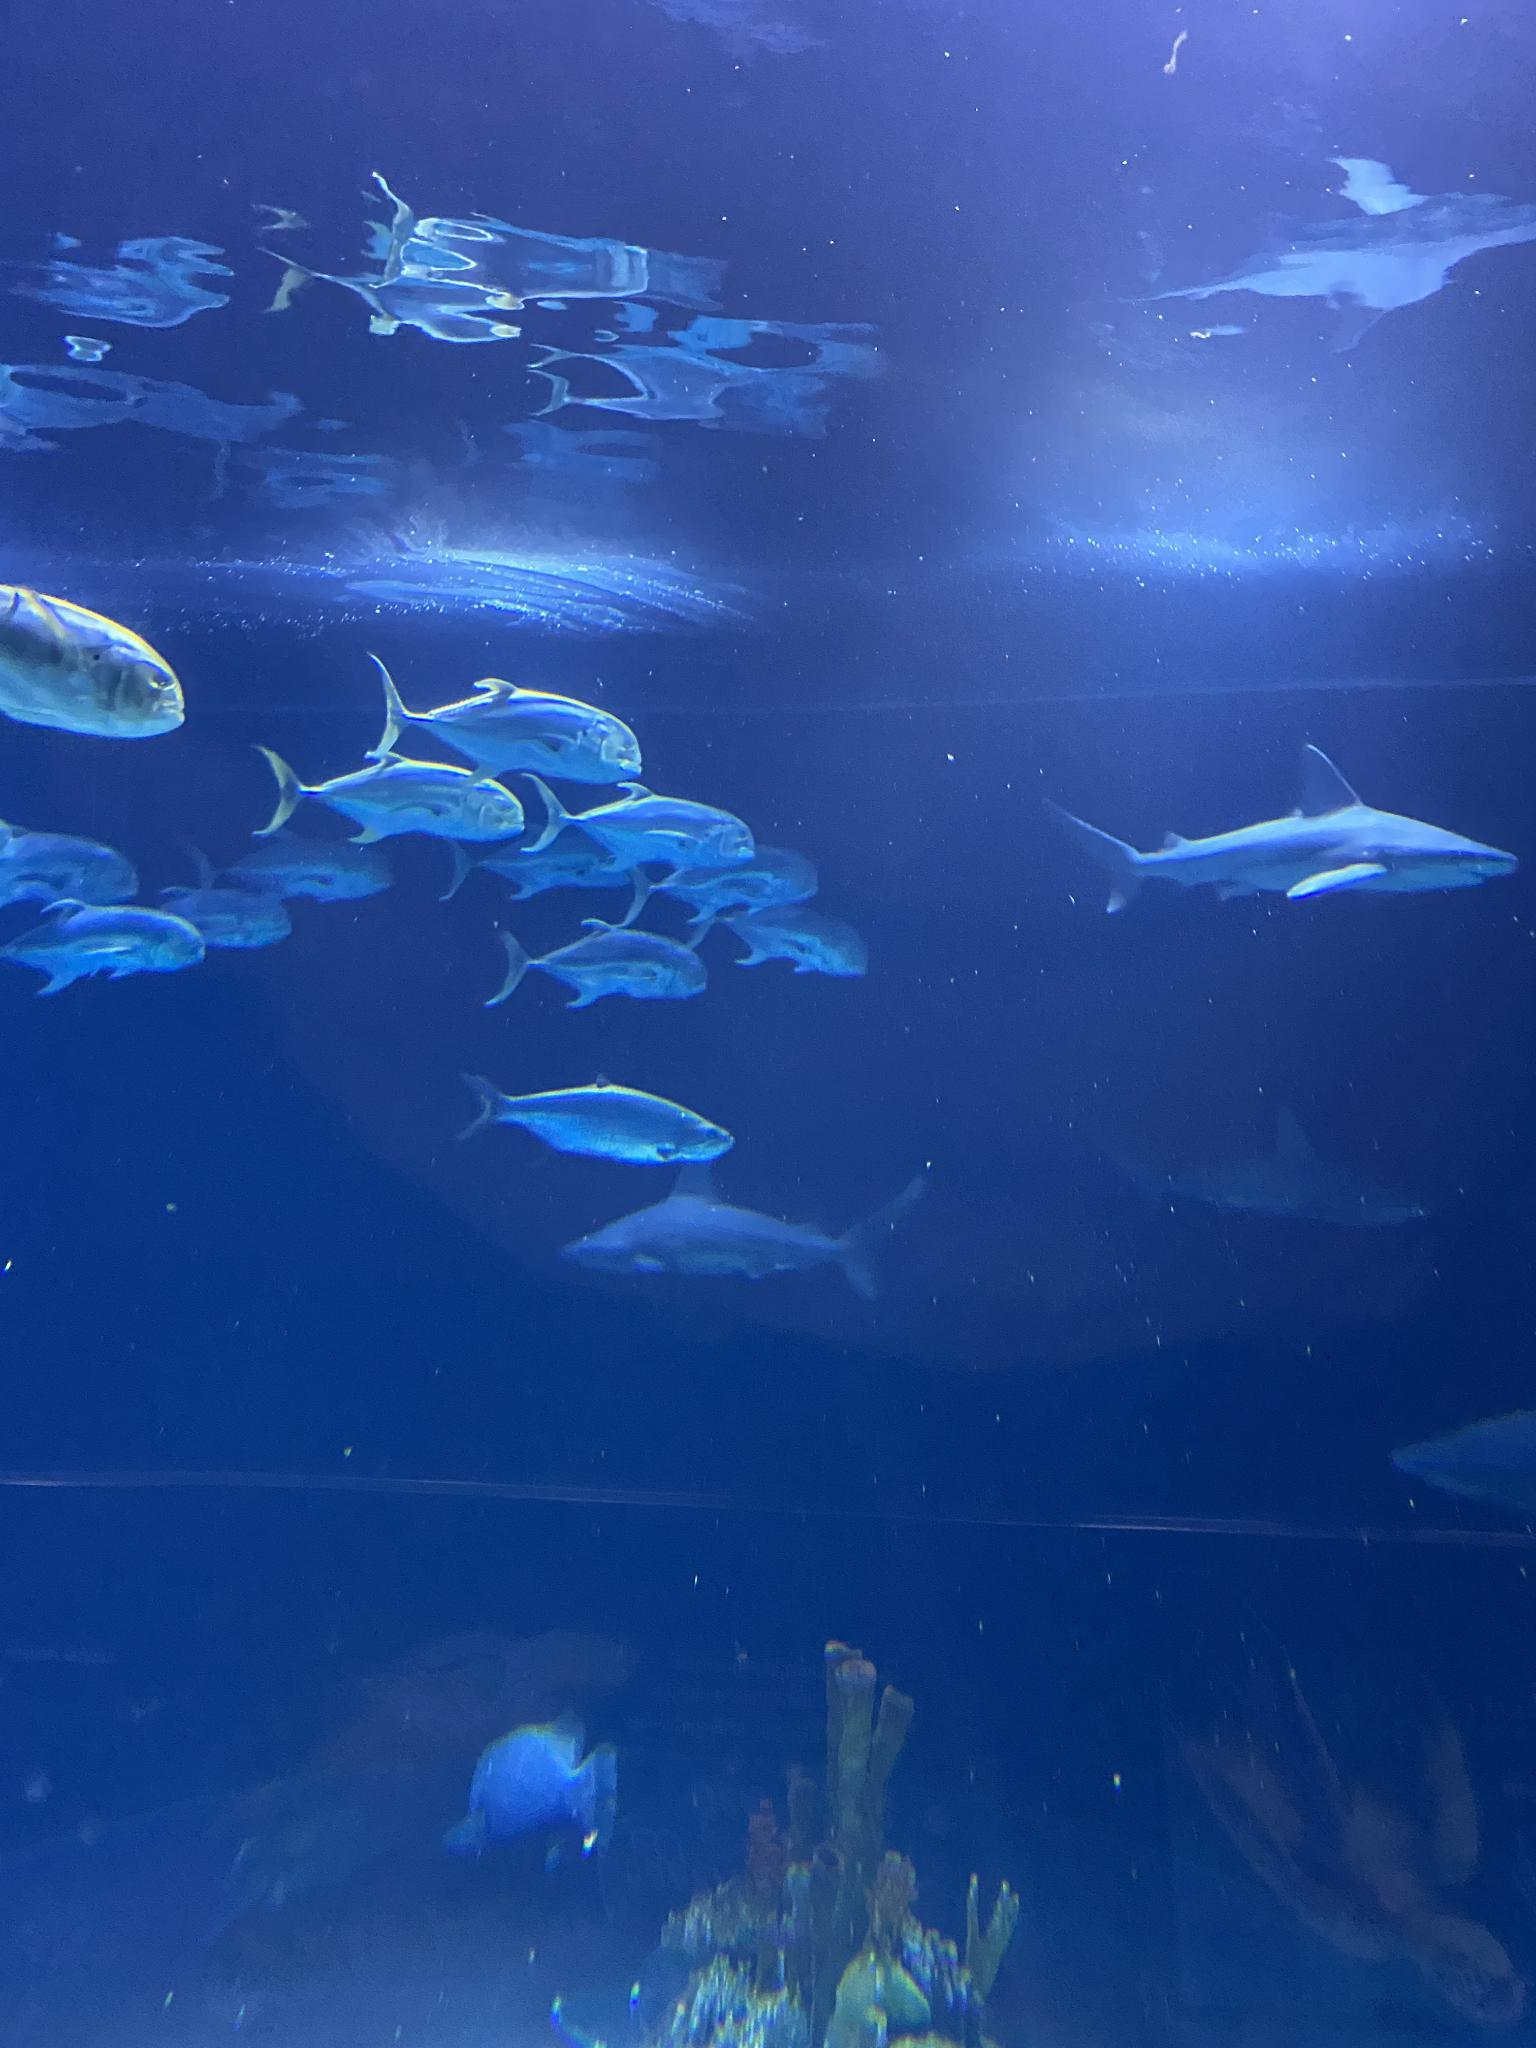fish: (365, 648, 641, 785), (439, 1711, 620, 1879), (0, 577, 184, 739), (247, 743, 523, 843), (453, 1071, 736, 1163), (521, 772, 757, 874), (0, 898, 203, 998), (484, 921, 708, 1011), (608, 843, 818, 932), (182, 827, 397, 905), (439, 822, 632, 905), (678, 905, 871, 980), (2, 818, 139, 910), (158, 884, 292, 948)
shark: (1042, 743, 1518, 913), (558, 1164, 929, 1303), (1092, 1105, 1425, 1232), (1389, 1409, 1534, 1517)
